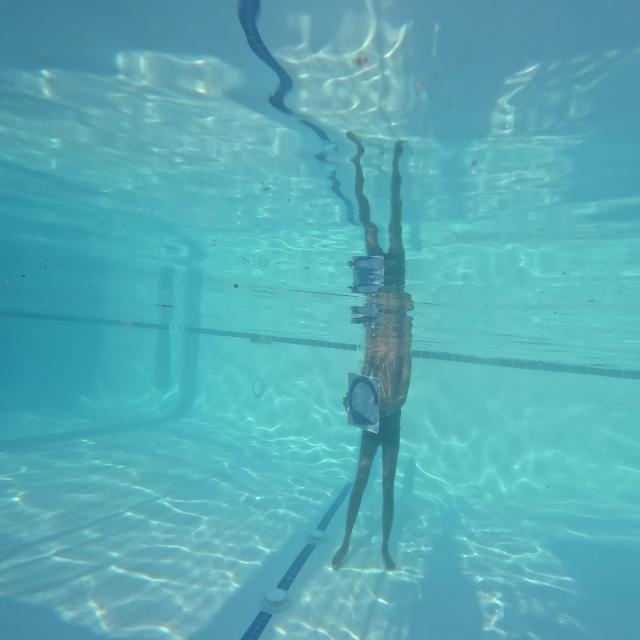blue_side: (345, 367, 383, 434)
